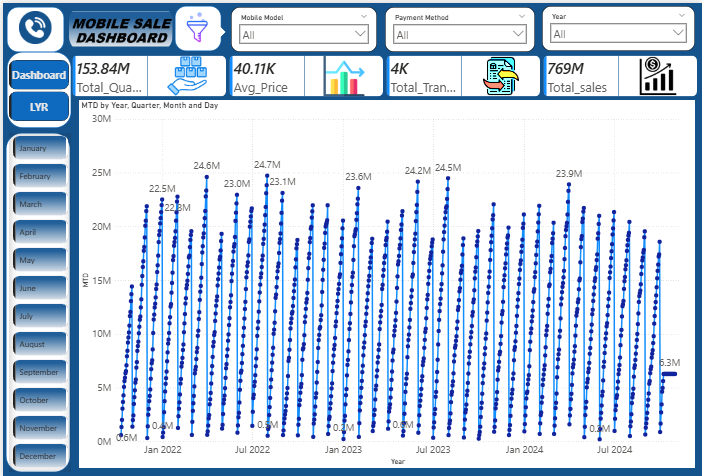

The dashboard page shown, as its layout file describes it:
{"tool":"powerbi","page":{"name":"MTD","canvas":[1400,950],"ordinal":2},"visuals":[{"type":"shape","box":[8,8,114,90],"z":0},{"type":"image","box":[28.6,15.7,72.9,65.7],"z":1000},{"type":"shape","box":[8.3,98.3,128.3,151.7],"z":2000},{"type":"cardVisual","fields":{"Data":["Sales_Data.Total_Quantity","Sales_Data.Avg_Price","Sales_Data.Total_Transaction","Sales_Data.Total_sales"]},"box":[132,98,1264,96],"z":3000},{"type":"slicer","fields":{"Values":["Sales_Data.Mobile Model"]},"box":[456,8,292,90],"z":4000},{"type":"slicer","fields":{"Values":["Sales_Data.Payment Method"]},"box":[764,8,300,90],"z":5000},{"type":"slicer","fields":{"Values":["CustomCalander.Date.Variation.Date Hierarchy.Year"]},"box":[1078,6,306,90],"z":6000},{"type":"shape","box":[343.8,6.2,92.5,90],"z":7000},{"type":"shape","box":[418.8,48.8,27.5,20],"z":8000},{"type":"image","box":[348.8,12.5,81.2,72.5],"z":9000},{"type":"pageNavigator","box":[11.7,113.3,120,123.3],"z":10000},{"type":"lineChart","fields":{"Y":["Sales_Data.MTD"],"Category":["CustomCalander.Date.Variation.Date Hierarchy.Year","CustomCalander.Date.Variation.Date Hierarchy.Quarter","CustomCalander.Date.Variation.Date Hierarchy.Month","CustomCalander.Date.Variation.Date Hierarchy.Day"]},"box":[152,194,1232,736],"z":11000},{"type":"shape","box":[6.7,260,128.3,678.3],"z":12000},{"type":"advancedSlicerVisual","fields":{"Values":["CustomCalander.Date.Variation.Date Hierarchy.Month"]},"box":[12.9,260,124.3,678.6],"z":13000},{"type":"image","box":[131.7,3.3,206.7,95],"z":14000}]}

Visuals, with their boxes in screenshot pixels (x1, y1, x2, y2), scaled from the page's 1400x950 canvas onto the 702x476 screenshot:
shape: (left=4, top=4, right=61, bottom=49)
image: (left=14, top=8, right=51, bottom=41)
shape: (left=4, top=49, right=68, bottom=125)
cardVisual - Sales_Data.Total_Quantity x Sales_Data.Avg_Price: (left=66, top=49, right=700, bottom=97)
slicer - Sales_Data.Mobile Model: (left=229, top=4, right=375, bottom=49)
slicer - Sales_Data.Payment Method: (left=383, top=4, right=534, bottom=49)
slicer - CustomCalander.Date.Variation.Date Hierarchy.Year: (left=541, top=3, right=694, bottom=48)
shape: (left=172, top=3, right=219, bottom=48)
shape: (left=210, top=24, right=224, bottom=34)
image: (left=175, top=6, right=216, bottom=43)
pageNavigator: (left=6, top=57, right=66, bottom=119)
lineChart - Sales_Data.MTD x CustomCalander.Date.Variation.Date Hierarchy.Year: (left=76, top=97, right=694, bottom=466)
shape: (left=3, top=130, right=68, bottom=470)
advancedSlicerVisual - CustomCalander.Date.Variation.Date Hierarchy.Month: (left=6, top=130, right=69, bottom=470)
image: (left=66, top=2, right=170, bottom=49)
